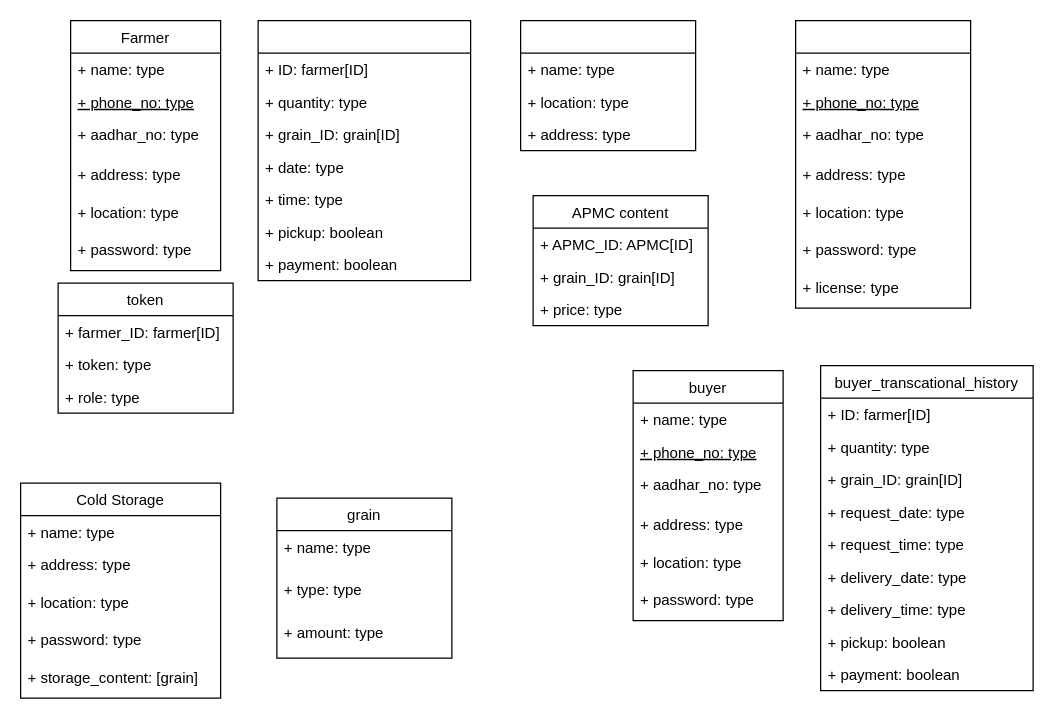
The diagram is 1054 pixels wide and 719 high, and some of its shapes have lost their labels. The shapes that lost their labels are listed below. From the top down, each one's box as (x1, y1, x2, y2) in pixels, then its label:
(519, 19, 696, 151): APMC
(257, 19, 471, 281): farmer_transcational_history
(794, 19, 971, 308): driver
